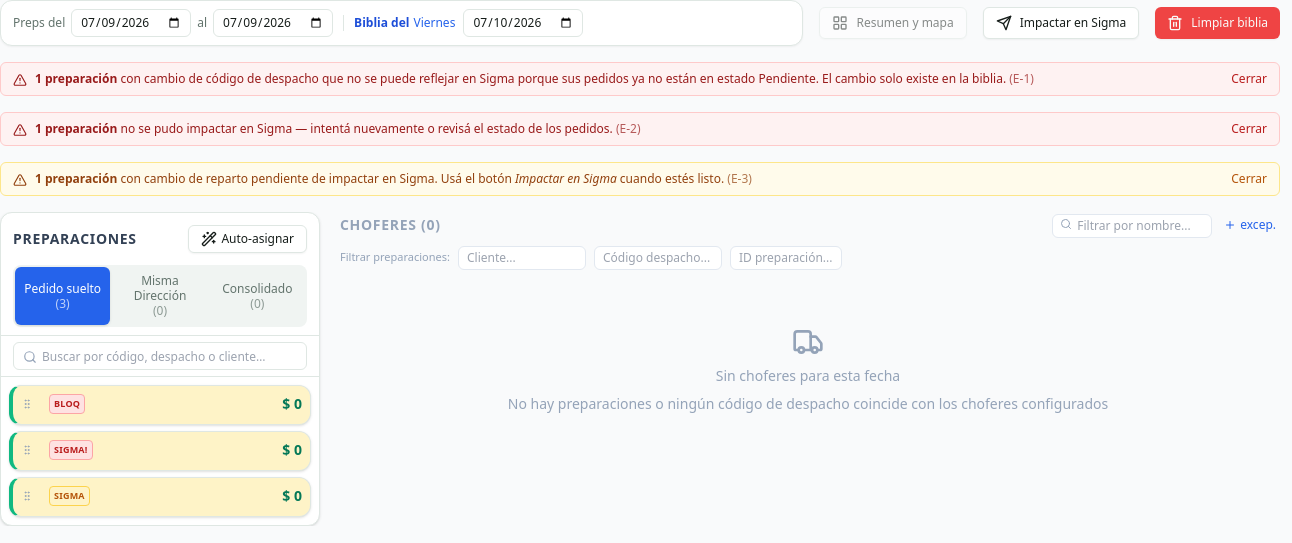
Test: BibleDashboard — banners de estado Sigma › permite cerrar el aviso de bloqueadas y de fallidas
Step 1. Click the button "Cerrar" in the row of "E-1" → click(1249, 79), box [1231,71,1267,87]
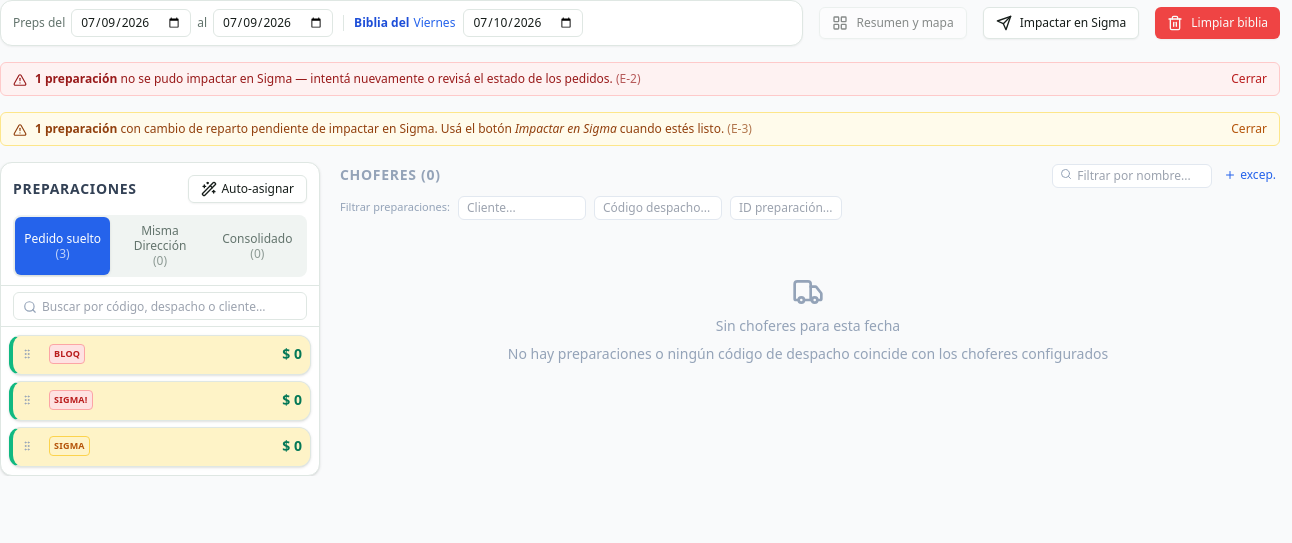
Result: the text "no se puede reflejar en Sigma" is gone
Step 2. Click the button "Cerrar" in the row of "E-2" → click(1249, 79), box [1231,71,1267,87]
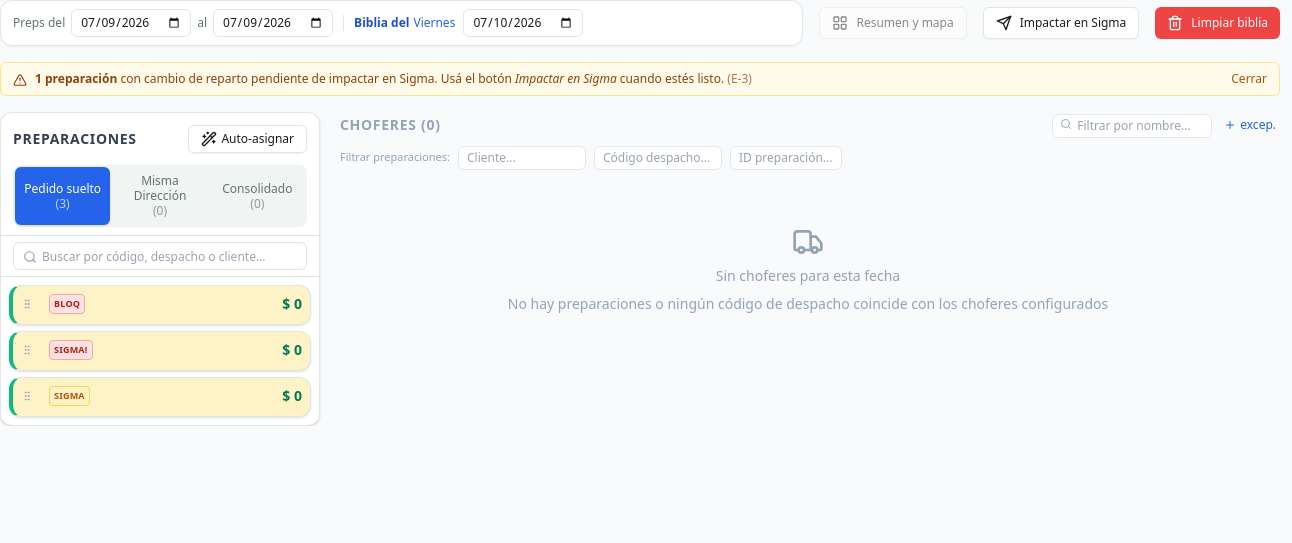
Result: the text "intentá nuevamente" is gone
Step 3. Click the button "Impactar en Sigma" → click(1061, 23), box [983,7,1139,39]
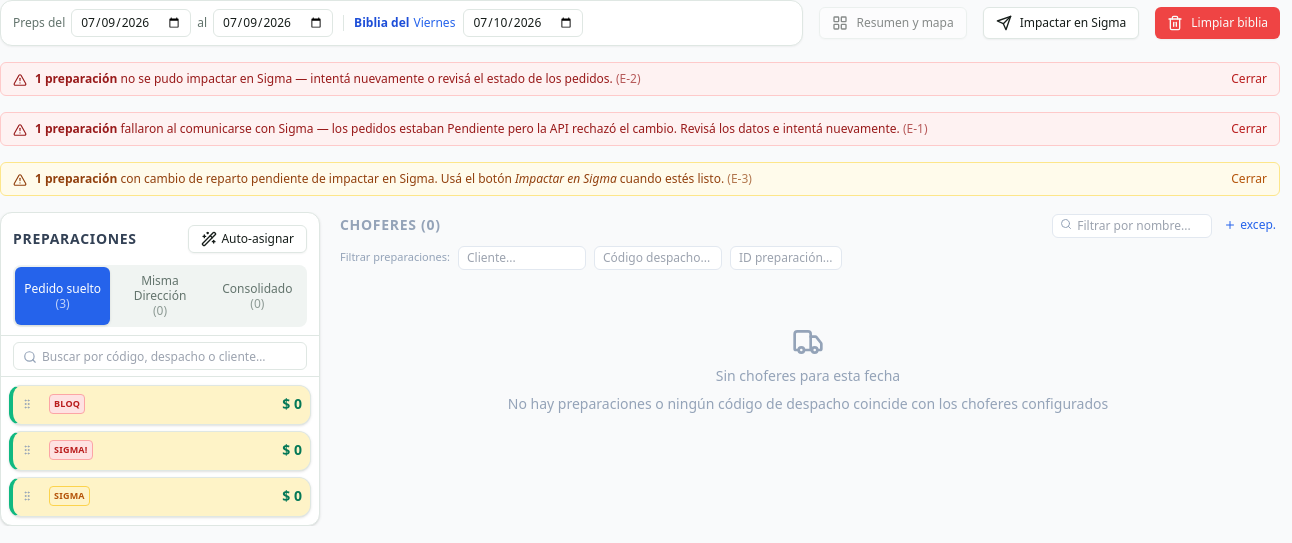
Result: the text "intentá nuevamente" is shown at [183,70,613,87]
# Aviso de error de Sigma (post-impactar) también se puede cerrar.
Step 4. Click the button "Cerrar" in the row of "E-1" → click(1249, 129), box [1231,121,1267,137]
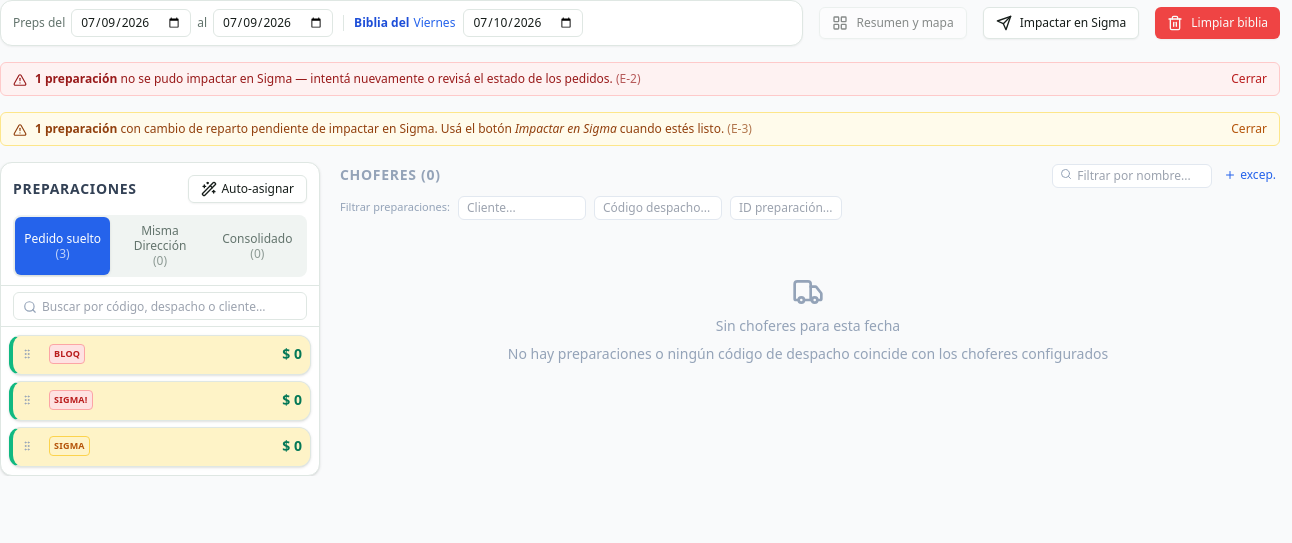
Result: the text "fallaron al comunicarse con Sigma" is gone
